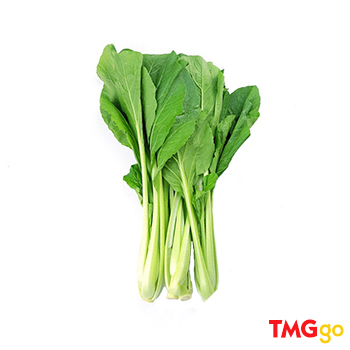Sawi: (91, 36, 265, 306)
